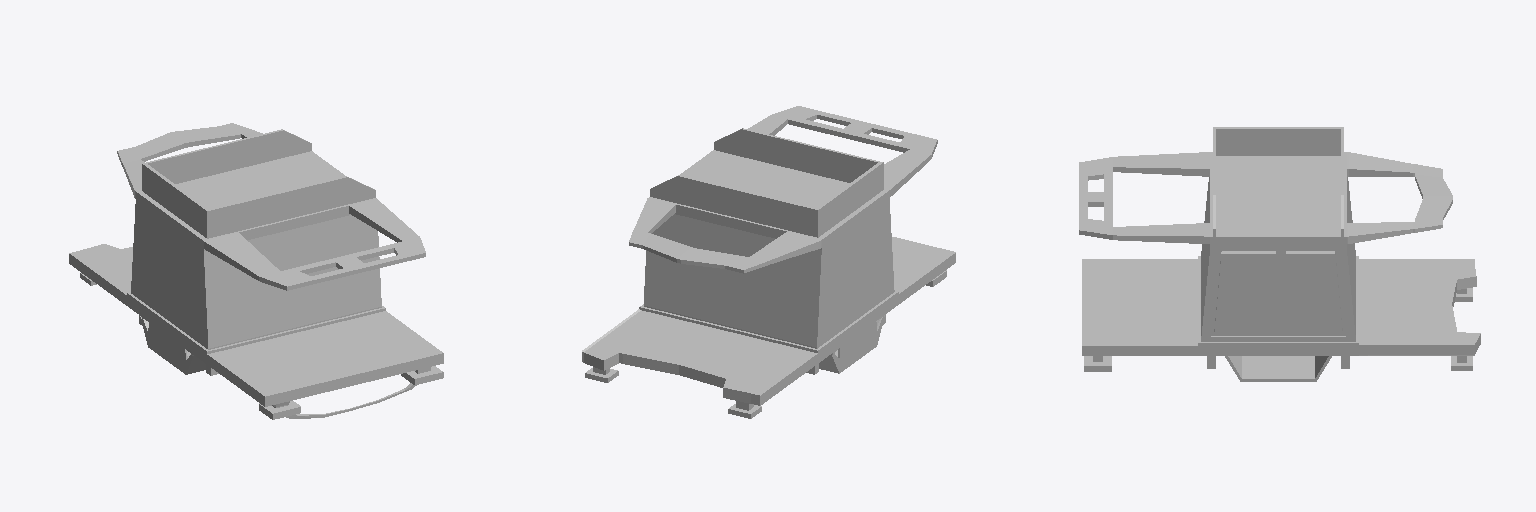
File: carritohightLOW.obj
3 views of the same model, side by side, from view 1: azimuth 30°, elevation 25°; view 2: azimuth 150°, elevation 25°; view 3: azimuth 270°, elevation 25° (orthographic).
Visible parts, largest first — view 1: textureEditorIsolateSelectSet polySurface12, polySurface12; view 2: textureEditorIsolateSelectSet polySurface12, polySurface12; view 3: polySurface12, textureEditorIsolateSelectSet polySurface12.
Part boxes in pixels (x1,y1,x2,y2): textureEditorIsolateSelectSet polySurface12: (127, 130, 385, 363); polySurface12: (69, 123, 443, 419); textureEditorIsolateSelectSet polySurface12: (639, 129, 898, 363); polySurface12: (582, 106, 955, 418); polySurface12: (1079, 127, 1480, 381); textureEditorIsolateSelectSet polySurface12: (1198, 129, 1358, 355).
Bounding box in the file's own units: 6.91 × 6.56 × 13.4.